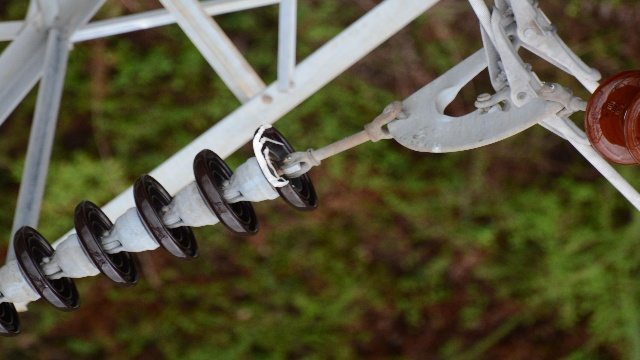broken_local: (252, 125, 288, 189)
insulator_unspecified: (0, 125, 320, 334), (582, 69, 639, 167)
